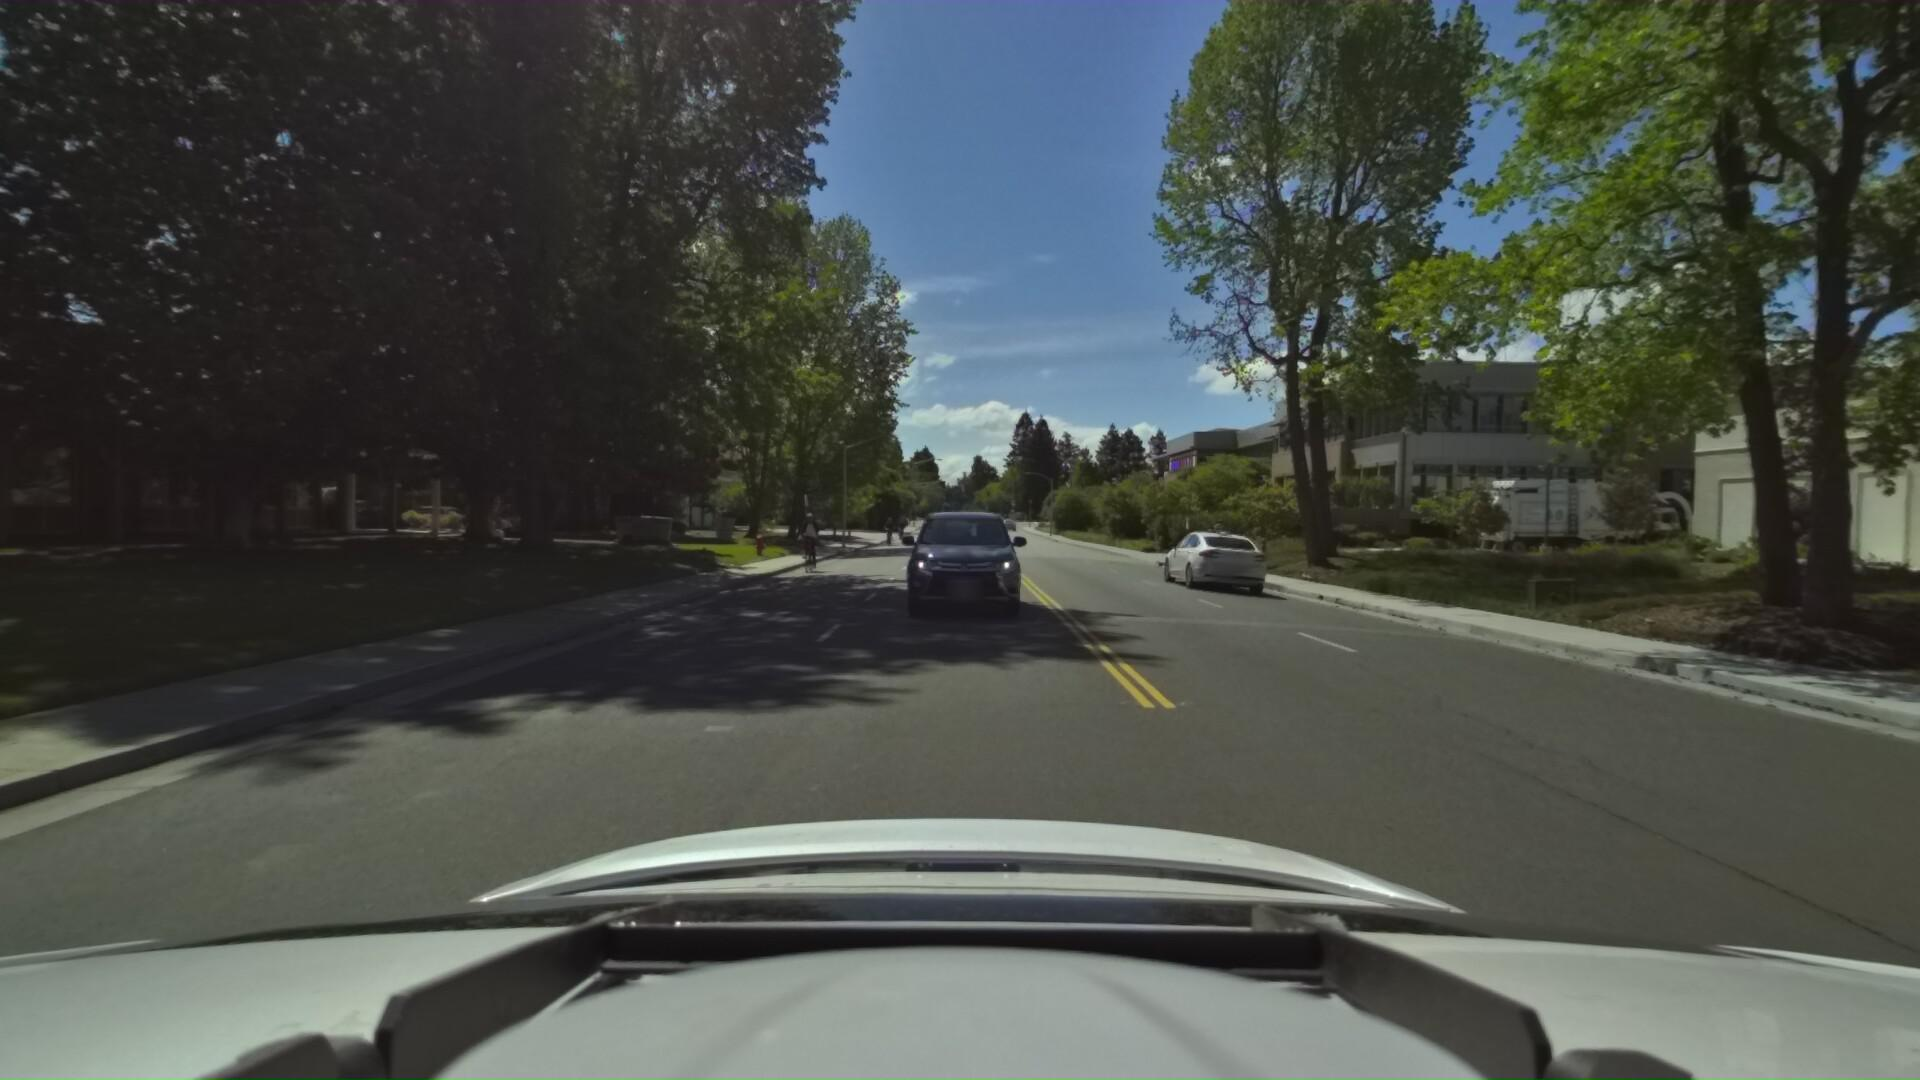bicycle: (785, 508, 824, 574), (877, 516, 894, 547), (891, 514, 905, 539)
car: (887, 502, 1027, 630), (1151, 517, 1269, 593)
